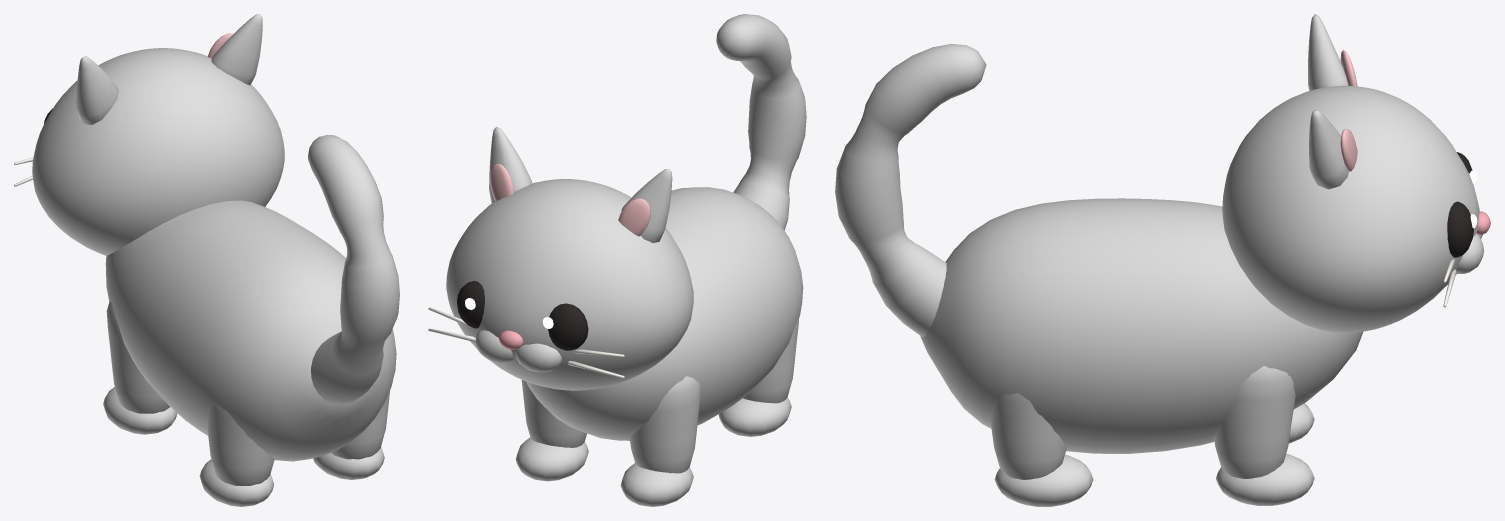
The model's file is cat_base.glb.
The picture shows the model from 3 angles, left to right: view 1: azimuth 30°, elevation 25°; view 2: azimuth 150°, elevation 25°; view 3: azimuth 270°, elevation 25°; orthographic projection. The views are drawn at different scales.
Visible parts, largest first — view 1: Cat_Base; view 2: Cat_Base; view 3: Cat_Base.
Part boxes in pixels (left/top/right/bottom): Cat_Base: left=14, top=14, right=399, bottom=506; Cat_Base: left=428, top=14, right=806, bottom=506; Cat_Base: left=835, top=14, right=1490, bottom=506.
Size of the model in its own units: 0.2641 by 0.4177 by 0.5842.
